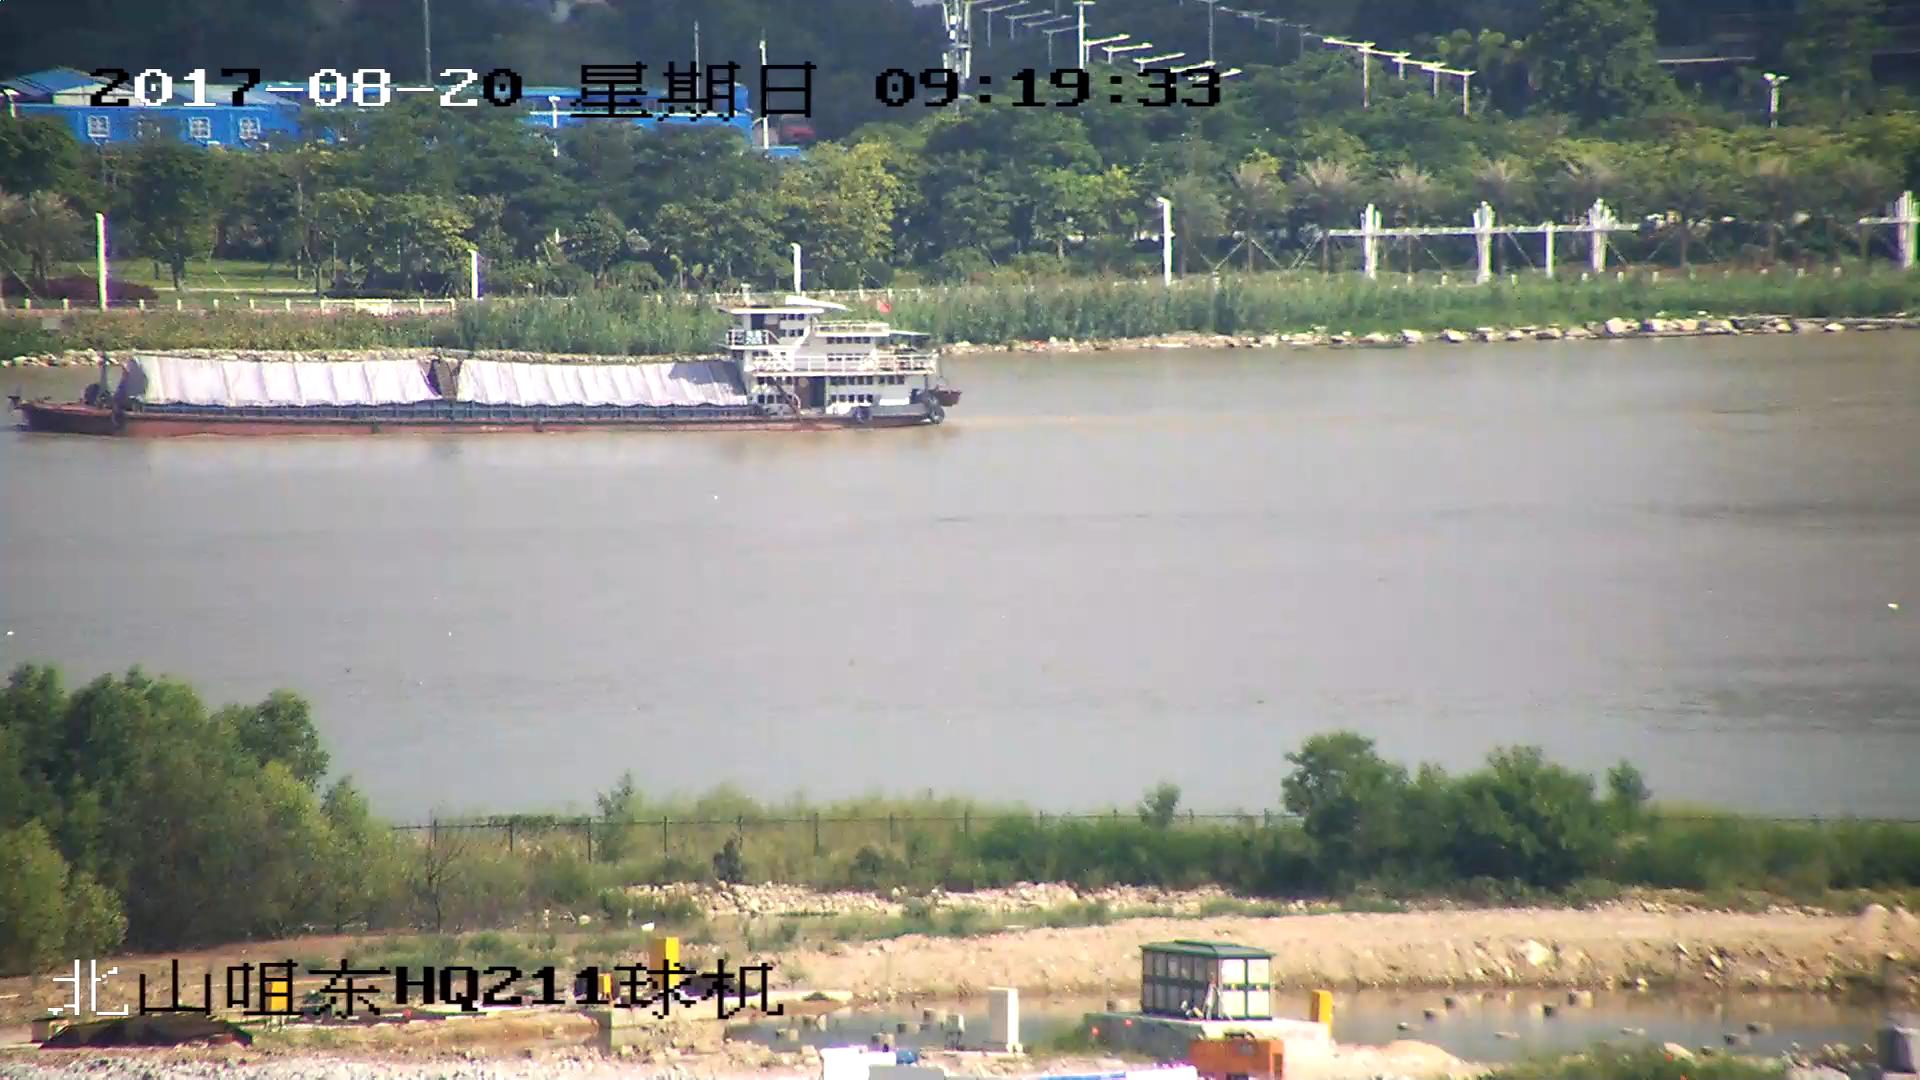general cargo ship: (17, 280, 953, 434)
